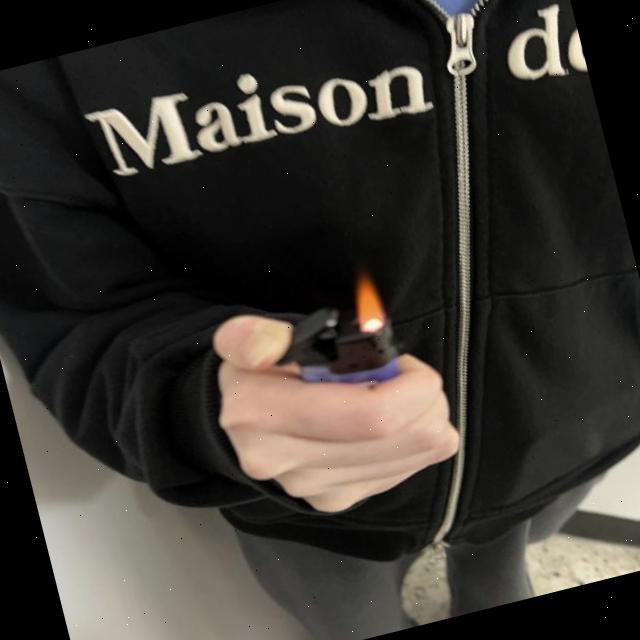fire: (345, 266, 390, 336)
